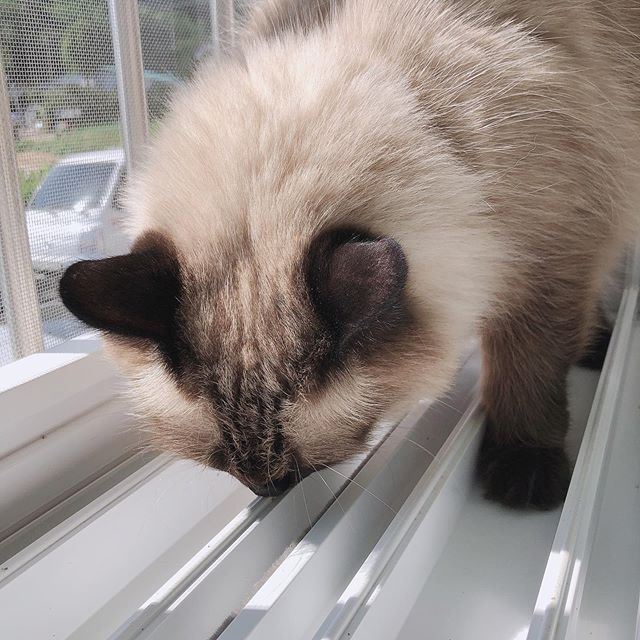cat: (54, 197, 423, 505)
